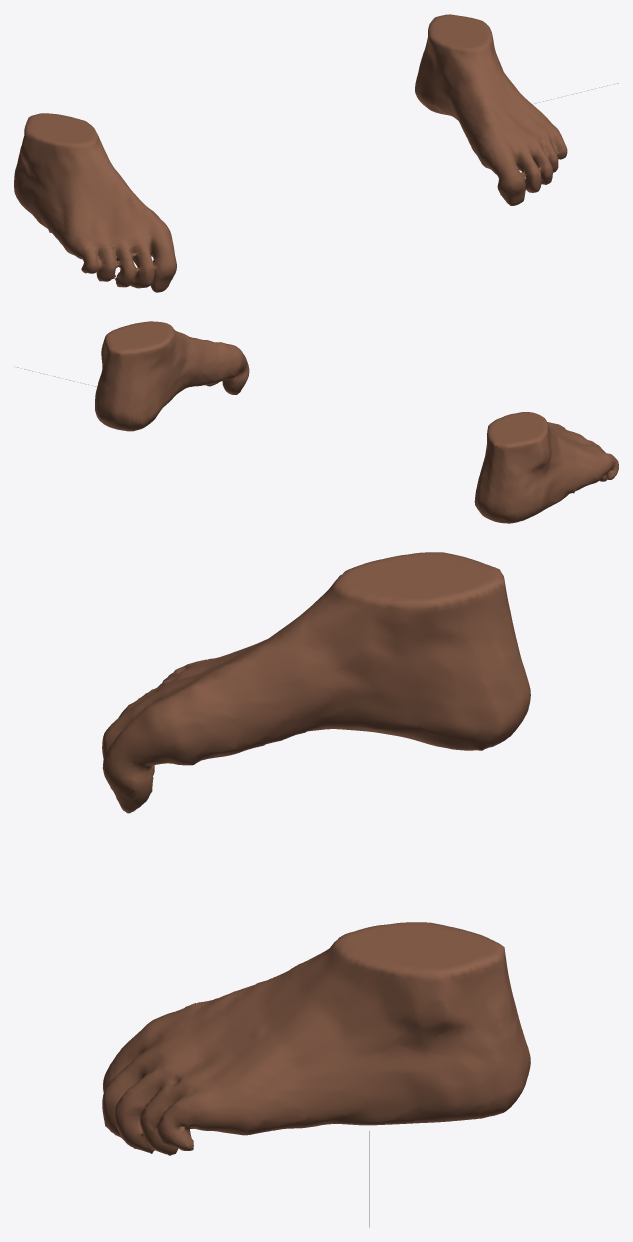
Rendered from feet-grip.glb.
3 views of the same model, one above another, from view 1: azimuth 30°, elevation 25°; view 2: azimuth 150°, elevation 25°; view 3: azimuth 270°, elevation 25° (orthographic). The views are drawn at different scales.
Parts seen in each view (by area): view 1: feet; view 2: feet; view 3: feet.
Boxes of the visible parts, x1,y1,x2,y2 form: feet: [14, 14, 618, 292]; feet: [14, 321, 618, 523]; feet: [102, 552, 530, 1227].
Bounding box in the file's own units: 0.6564 × 0.12 × 0.2189.
